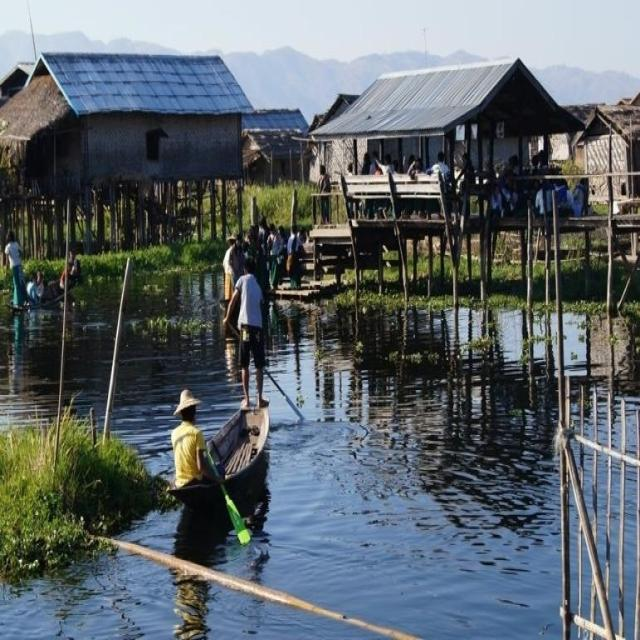Hyacinth: (143, 308, 214, 338), (522, 324, 566, 355), (460, 332, 498, 358)
boat: (175, 393, 286, 512)
